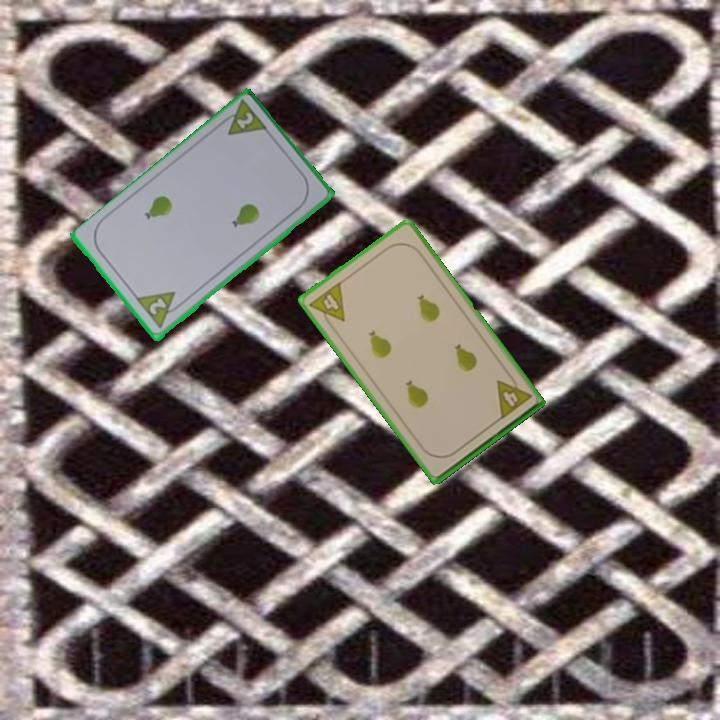2p: (215, 97, 271, 139), (145, 295, 169, 319)
4p: (305, 278, 348, 332), (492, 370, 535, 422)
